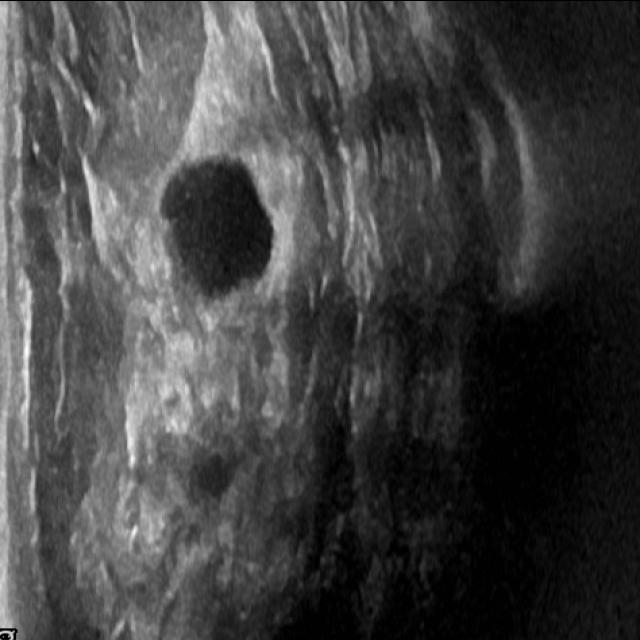Benign: (154, 146, 280, 294)
